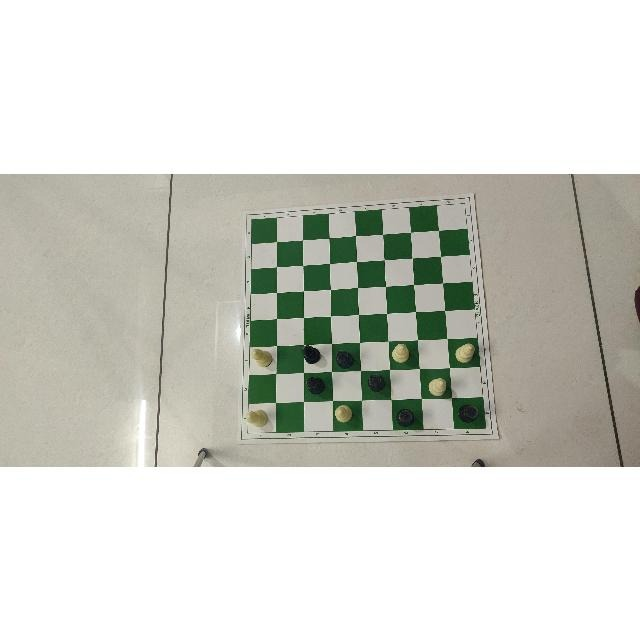black-bishop: (458, 403, 480, 425), (396, 408, 418, 428), (301, 343, 321, 363), (368, 372, 386, 392), (336, 347, 353, 368), (306, 376, 325, 394)
white-bishop: (246, 406, 268, 428), (454, 342, 475, 364), (251, 346, 272, 367), (332, 403, 353, 424), (428, 376, 448, 397), (392, 341, 411, 363)
